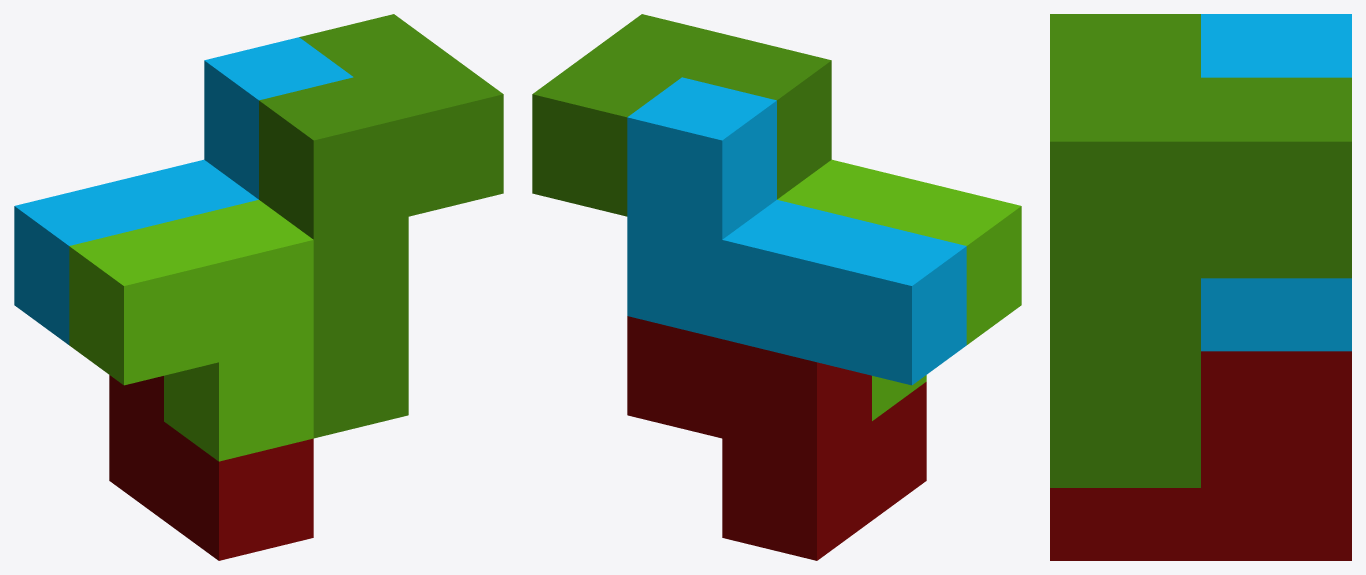
The picture shows the model from 3 angles, left to right: view 1: azimuth 30°, elevation 25°; view 2: azimuth 150°, elevation 25°; view 3: azimuth 270°, elevation 25°; orthographic projection. The views are drawn at different scales.
Parts seen in each view (by area): view 1: mergedBlocks(Clone); view 2: mergedBlocks(Clone); view 3: mergedBlocks(Clone).
Boxes of the visible parts, x1,y1,x2,y2 form: mergedBlocks(Clone): (14, 14, 503, 560); mergedBlocks(Clone): (532, 14, 1021, 560); mergedBlocks(Clone): (1050, 14, 1351, 560).
Bounding box in the file's own units: 4 × 4 × 2.
4 materials, 4 textured.
